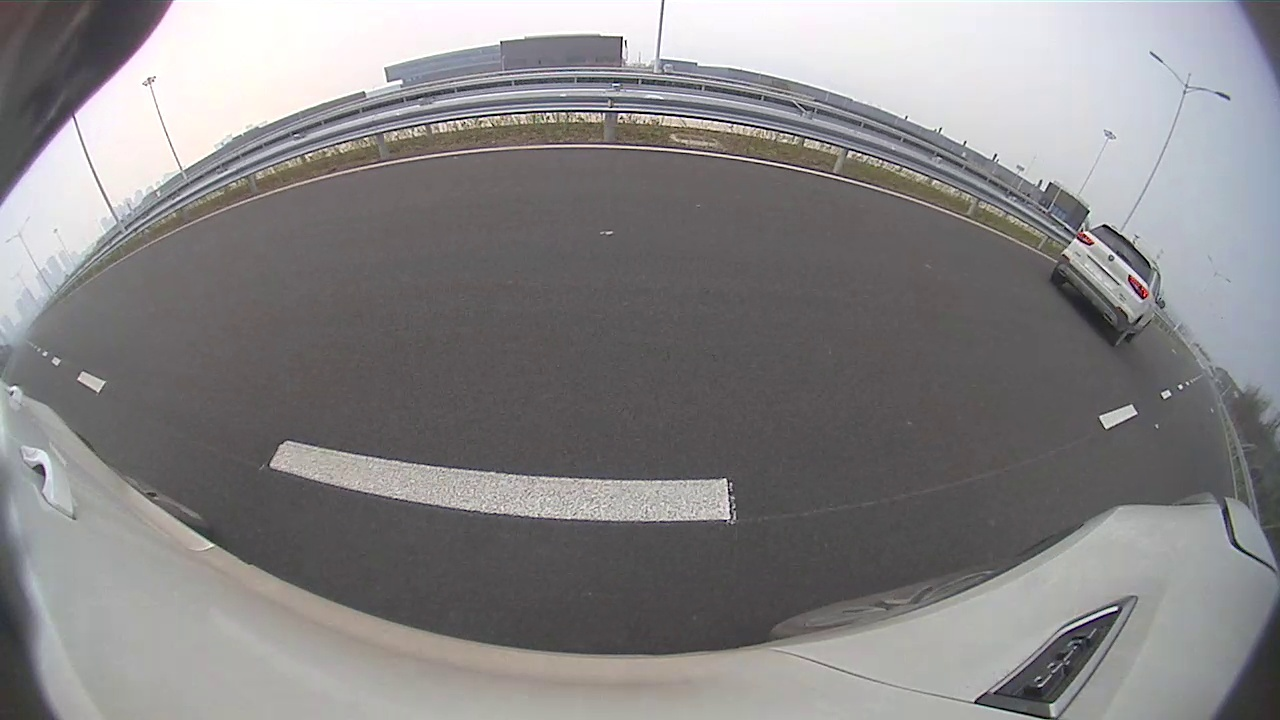car: (1, 251, 230, 521)
front: (149, 300, 221, 390)
